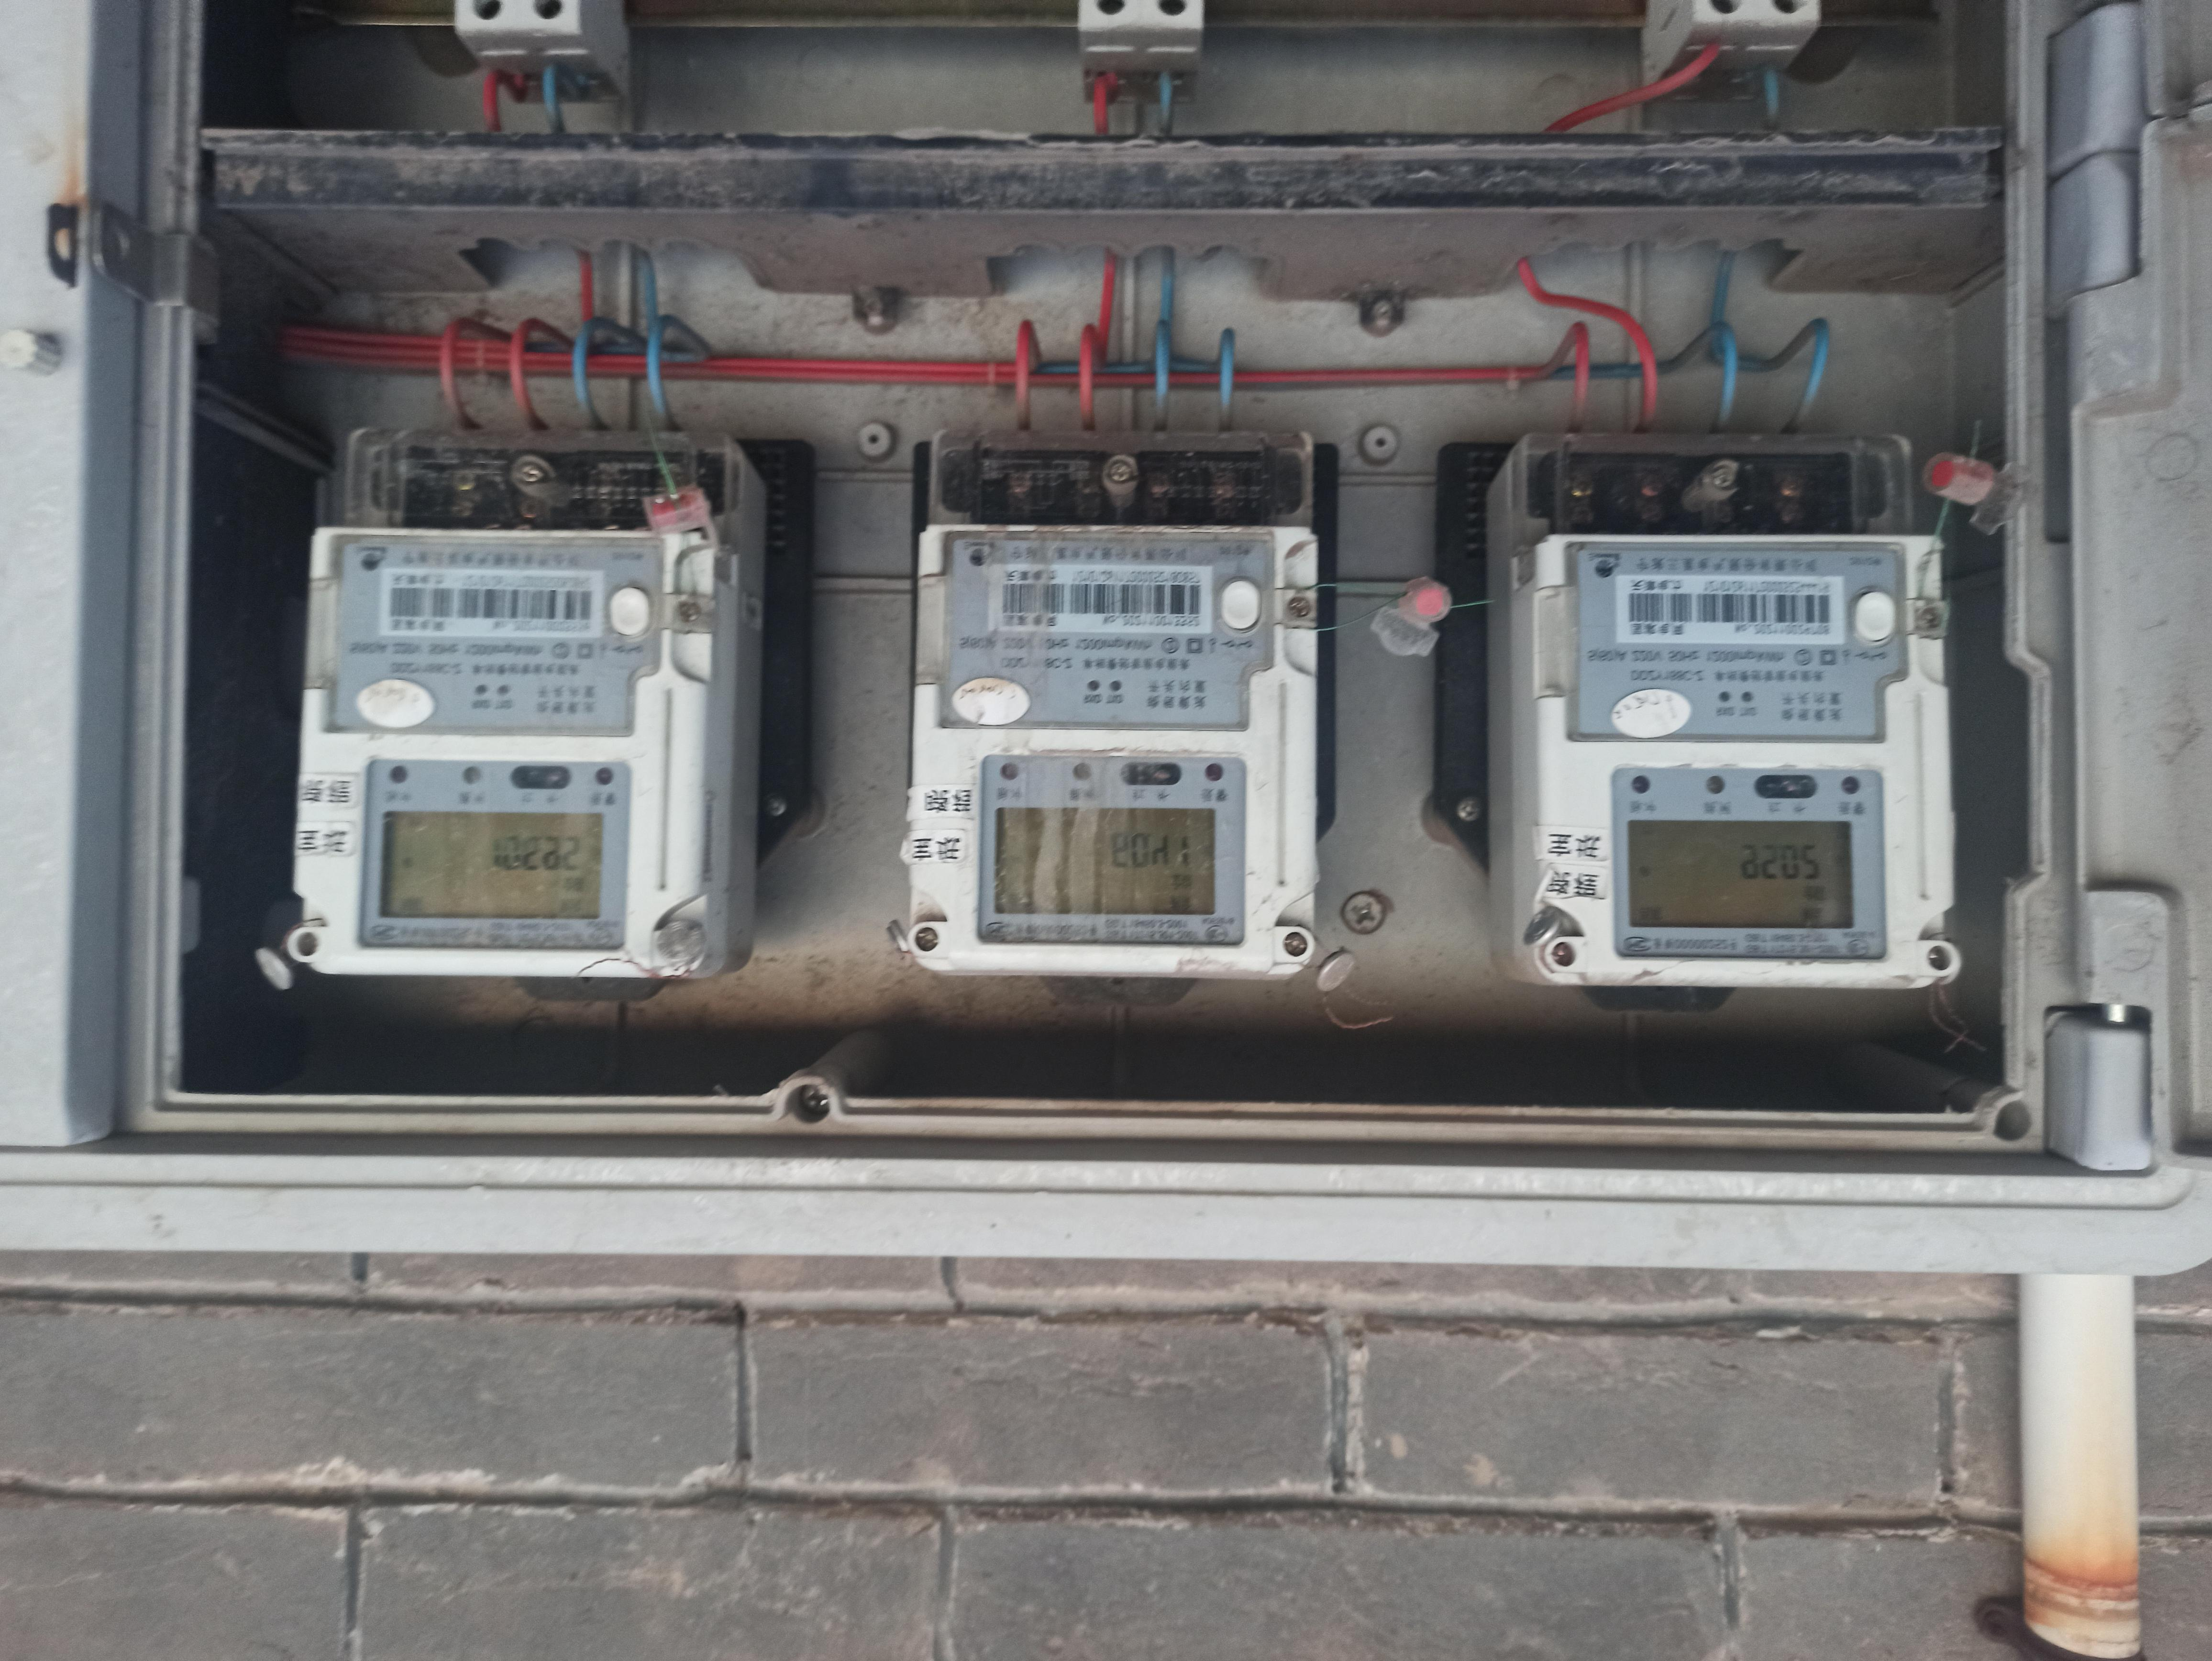digital: (1533, 530, 1949, 982), (298, 527, 710, 975), (909, 523, 1312, 975)
